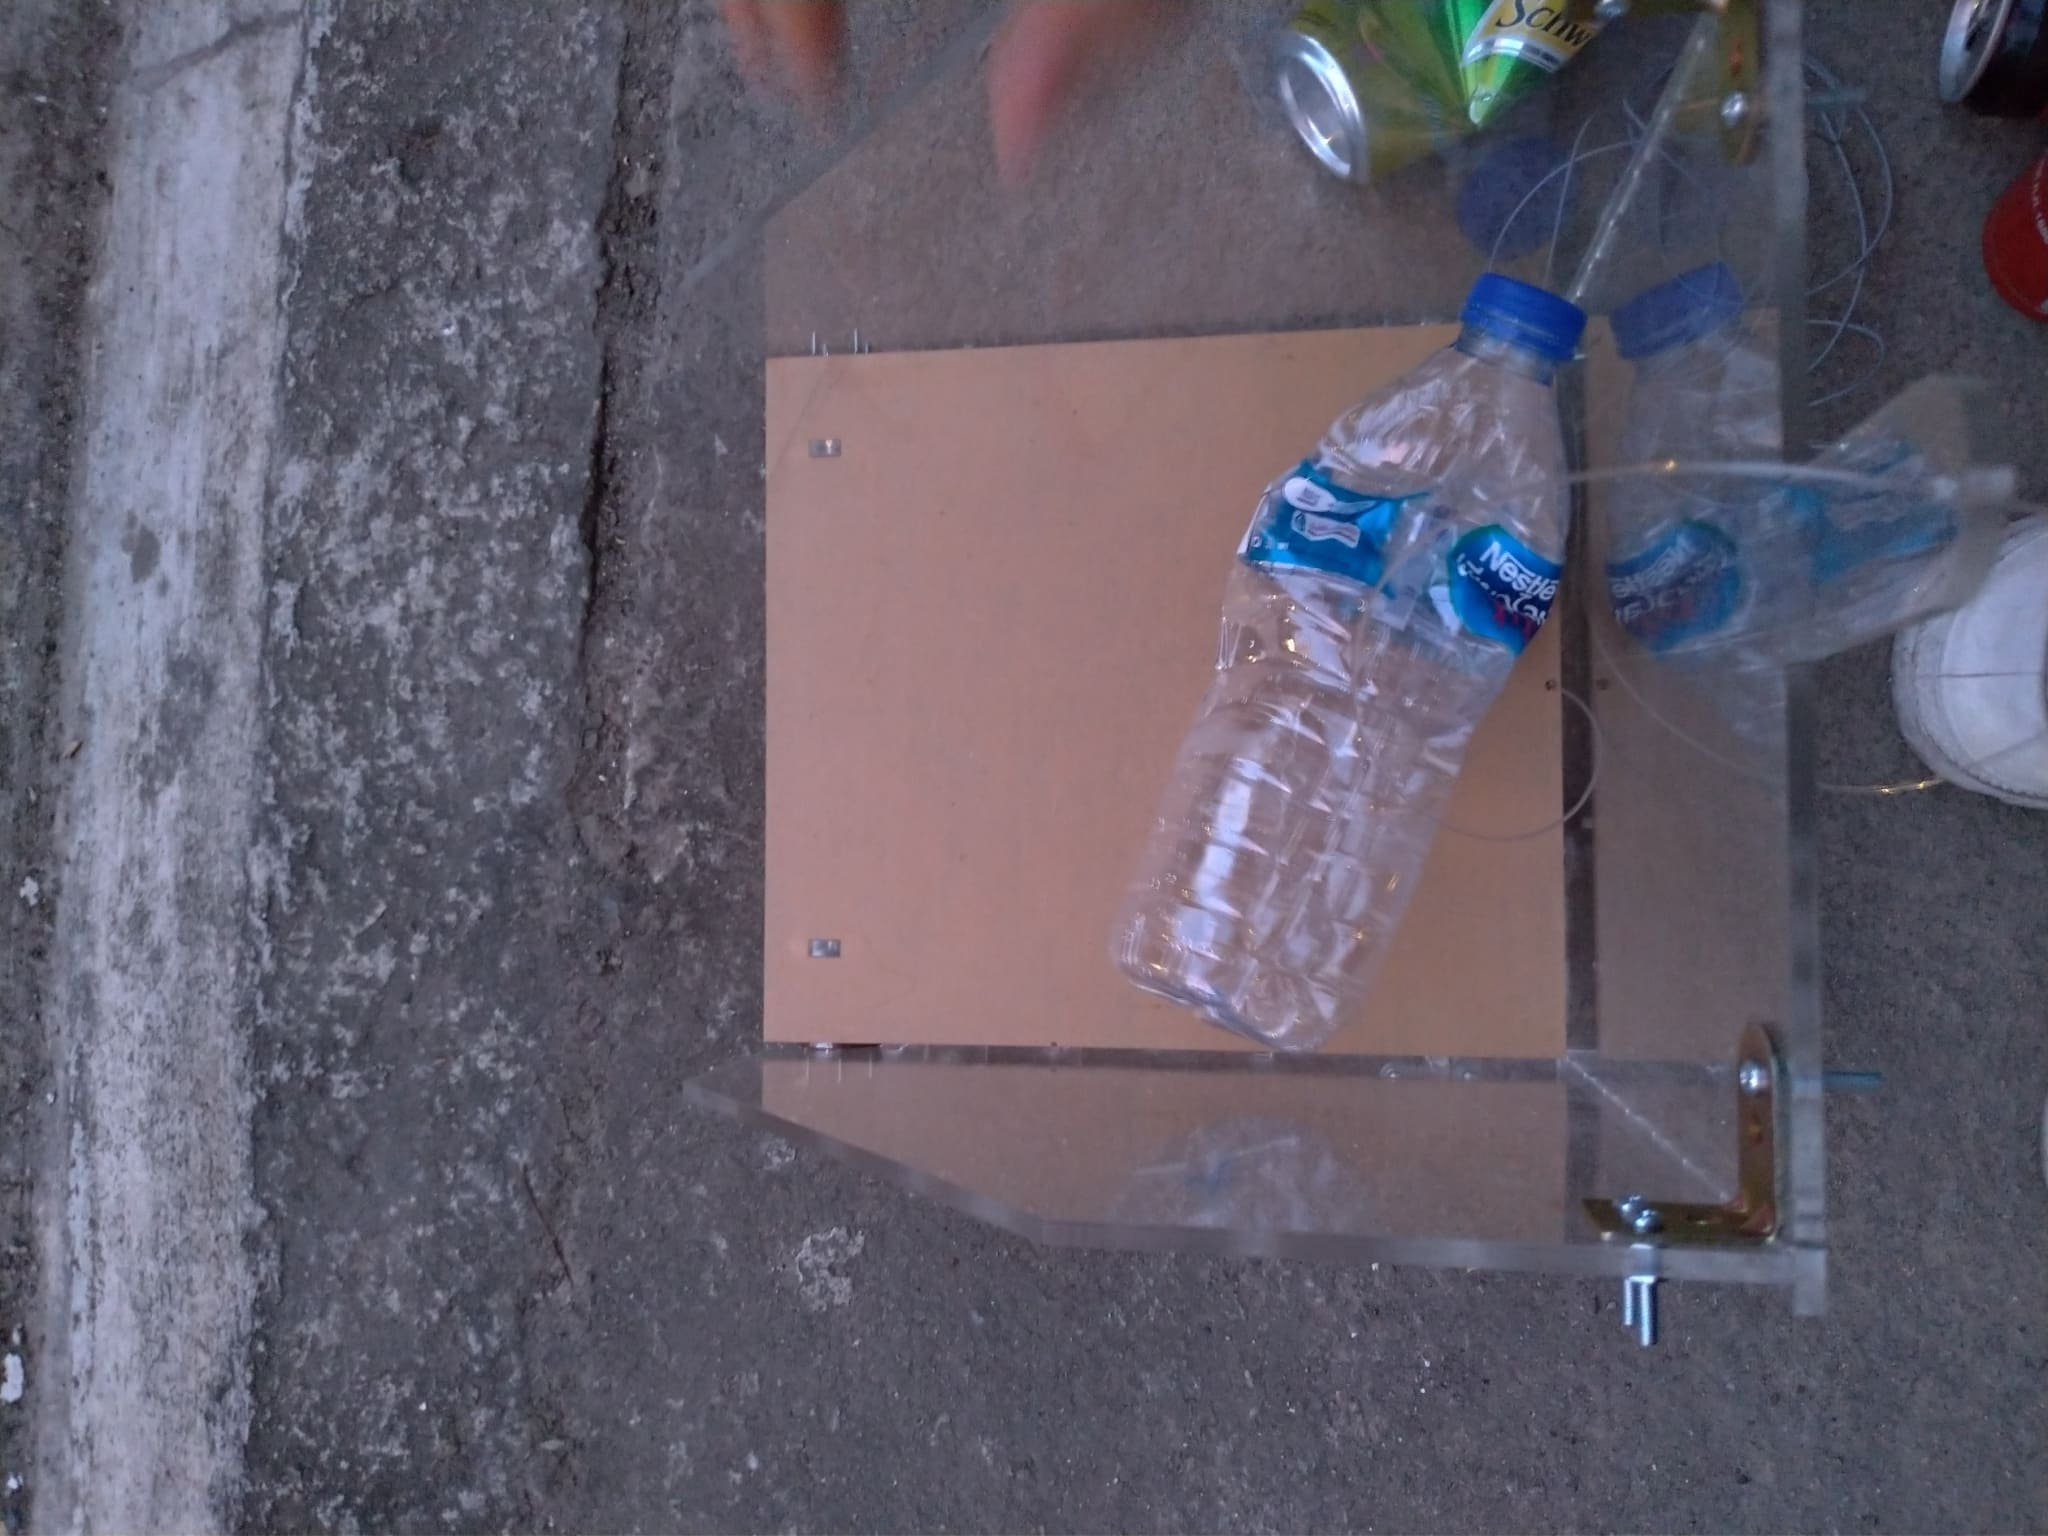AlCan: (1271, 10, 1611, 190)
PlasticBottle: (1105, 273, 1582, 1050)
